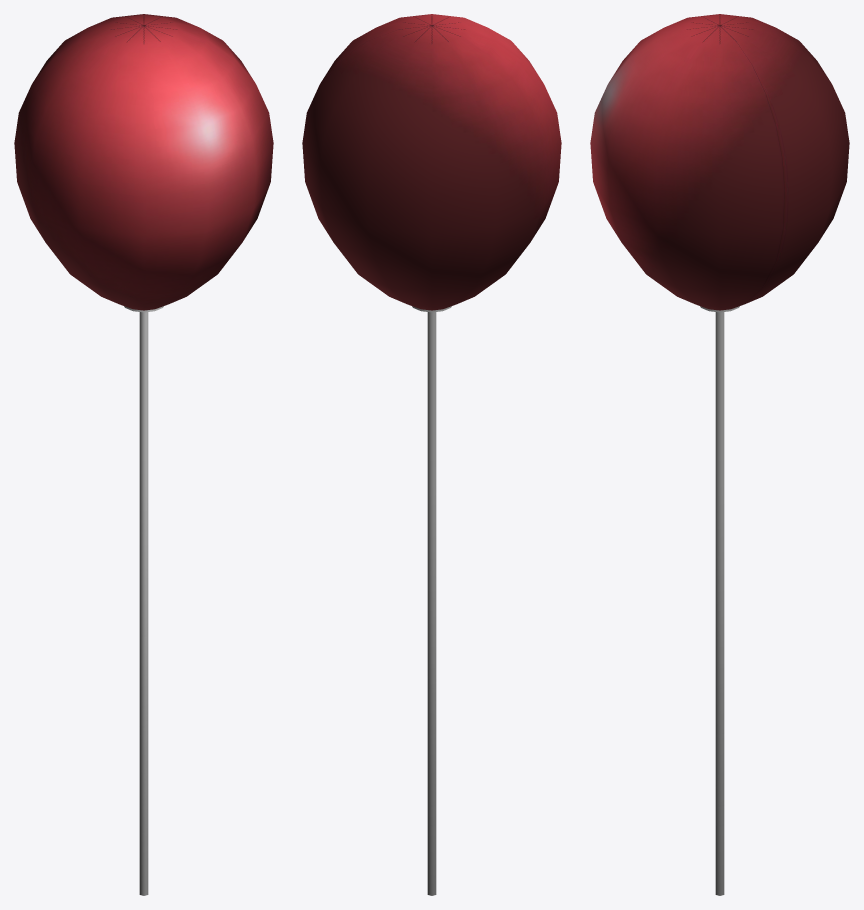
File: balon merah.fbx
The picture shows the model from 3 angles, left to right: view 1: azimuth 30°, elevation 25°; view 2: azimuth 150°, elevation 25°; view 3: azimuth 270°, elevation 25°; orthographic projection.
Parts seen in each view (by area): view 1: balon; view 2: balon; view 3: balon.
Boxes of the visible parts, x1,y1,x2,y2 form: balon: [14, 14, 273, 895]; balon: [302, 14, 561, 895]; balon: [590, 14, 849, 895].
Bounding box in the file's own units: 3.18 × 11.75 × 3.18.
1 material, 1 textured.
